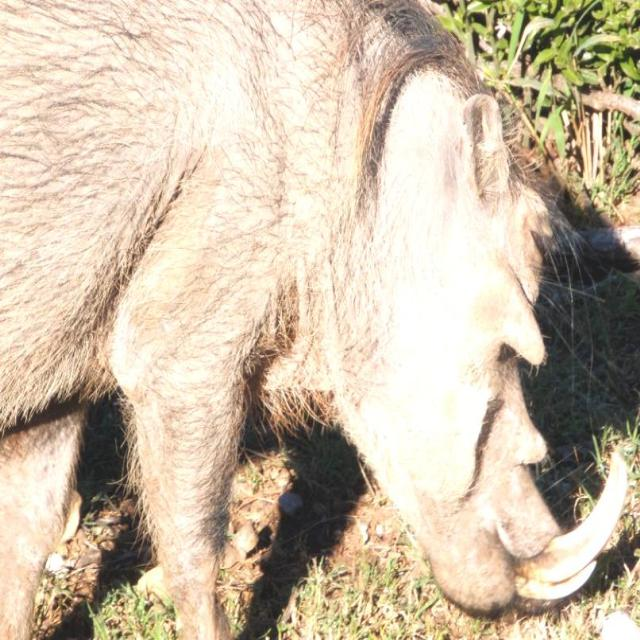pig: (0, 3, 626, 637)
